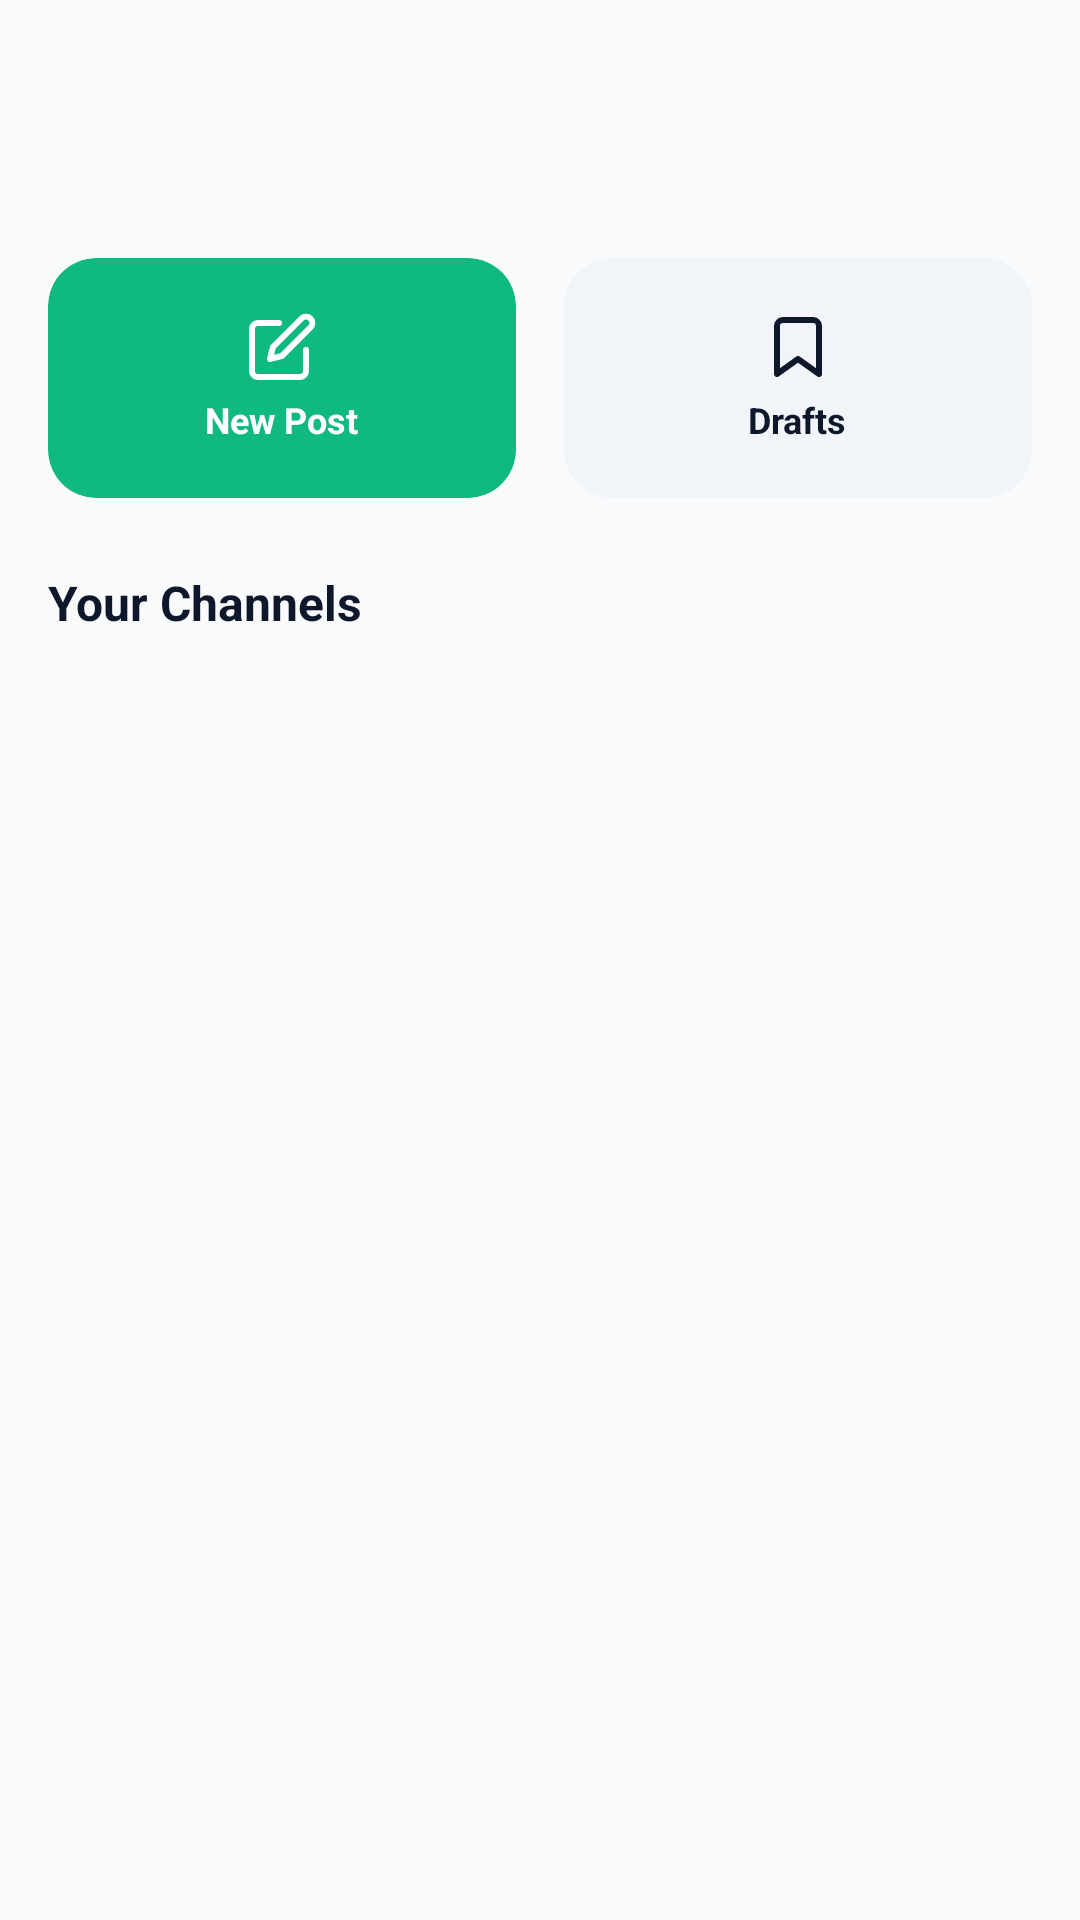

Icons on this 1080×1920 Android screen, each with the point to tap as point (x, y):
pen: point (282, 346)
save: point (798, 347)
